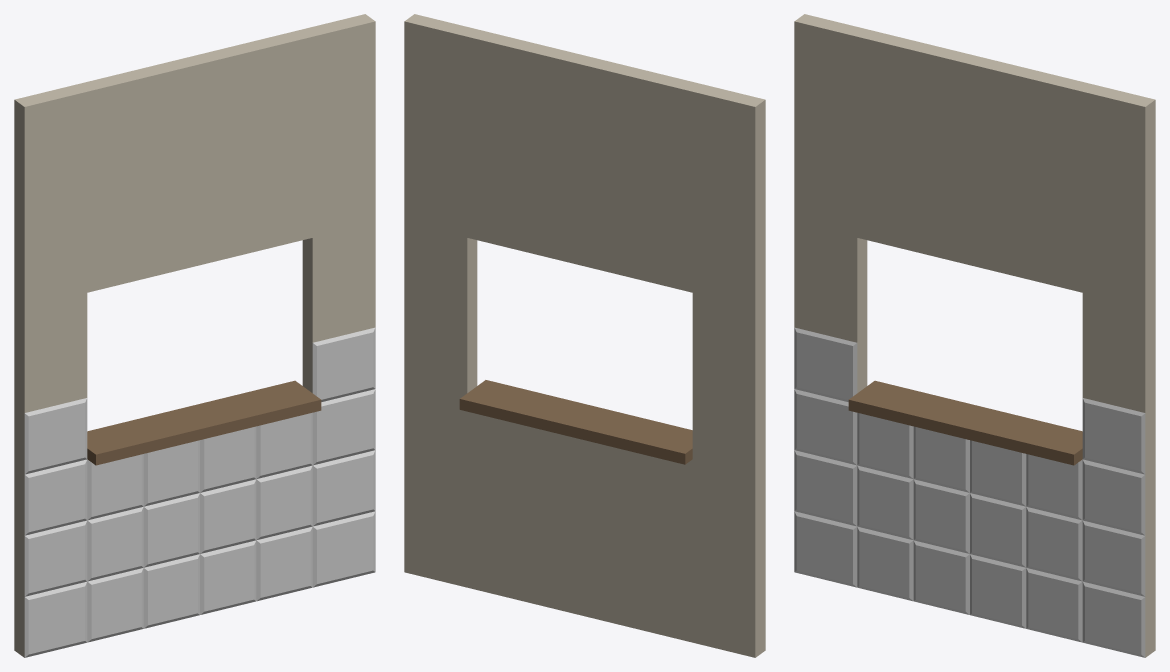
Rendered from Mesh_WallHalfCeramic_A2.fbx.
3 renders of one model, left to right at view 1: azimuth 30°, elevation 25°; view 2: azimuth 150°, elevation 25°; view 3: azimuth 330°, elevation 25°, orthographic.
Visible parts, largest first — view 1: Mesh_WallHalfCeramic_A2; view 2: Mesh_WallHalfCeramic_A2; view 3: Mesh_WallHalfCeramic_A2.
Part boxes in pixels (x1,y1,x2,y2): Mesh_WallHalfCeramic_A2: (14,14,375,657); Mesh_WallHalfCeramic_A2: (404,14,765,657); Mesh_WallHalfCeramic_A2: (794,14,1155,657).
Size of the model in its own units: 2 by 3 by 0.2574.
